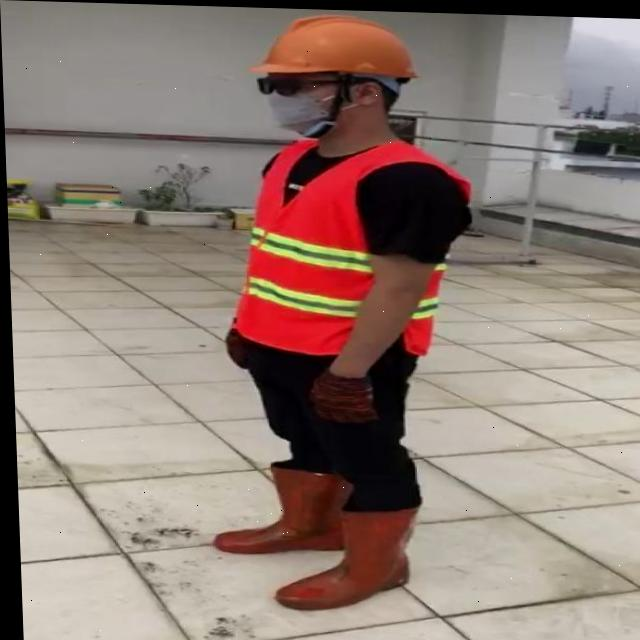Gloves: (305, 364, 377, 423), (224, 325, 247, 367)
Safety-Boot: (268, 496, 421, 611), (207, 456, 353, 555)
Safety-Vest: (227, 132, 476, 359)
